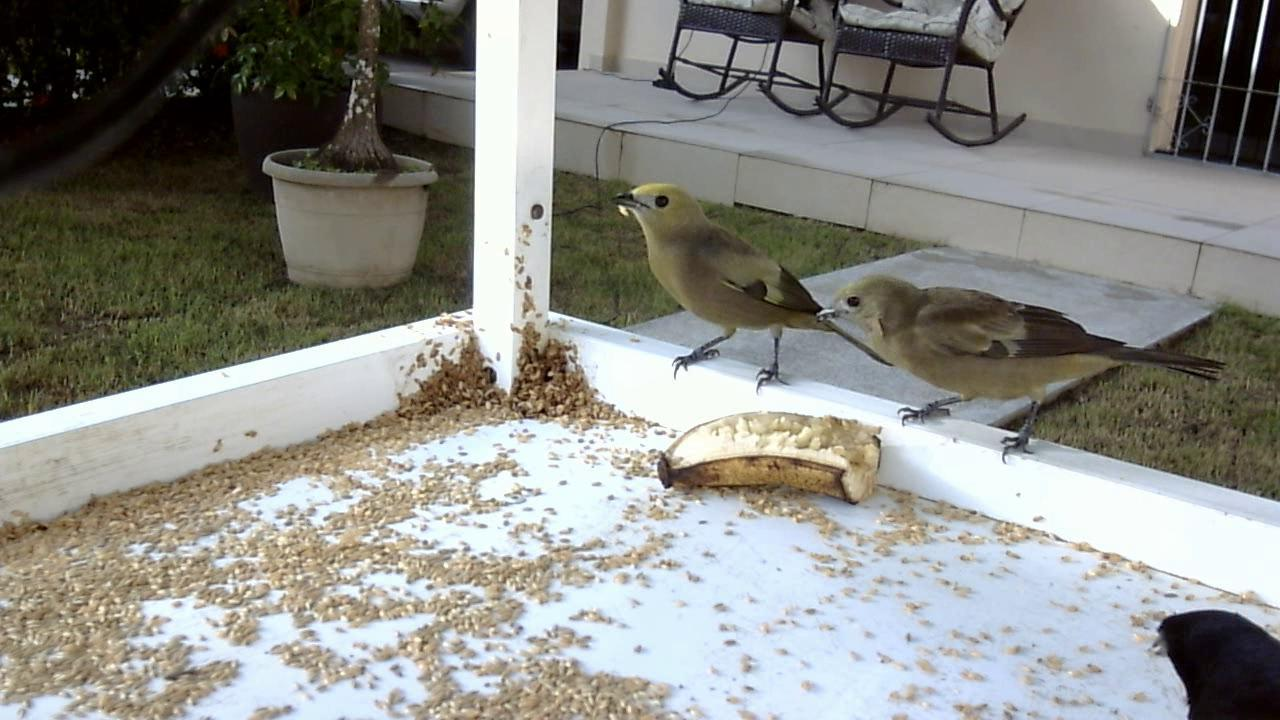chupim: (1136, 598, 1280, 716)
sanhaco_do_coqueiro: (819, 255, 1231, 478), (606, 178, 849, 400)
